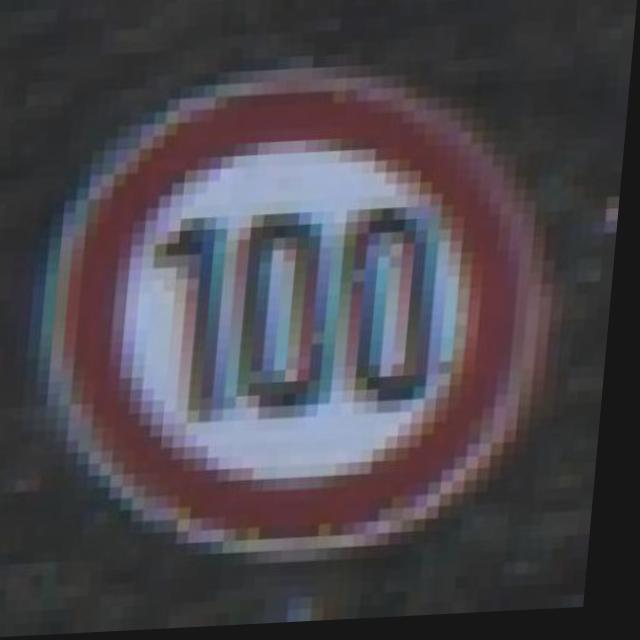limit100: (2, 54, 603, 589)
